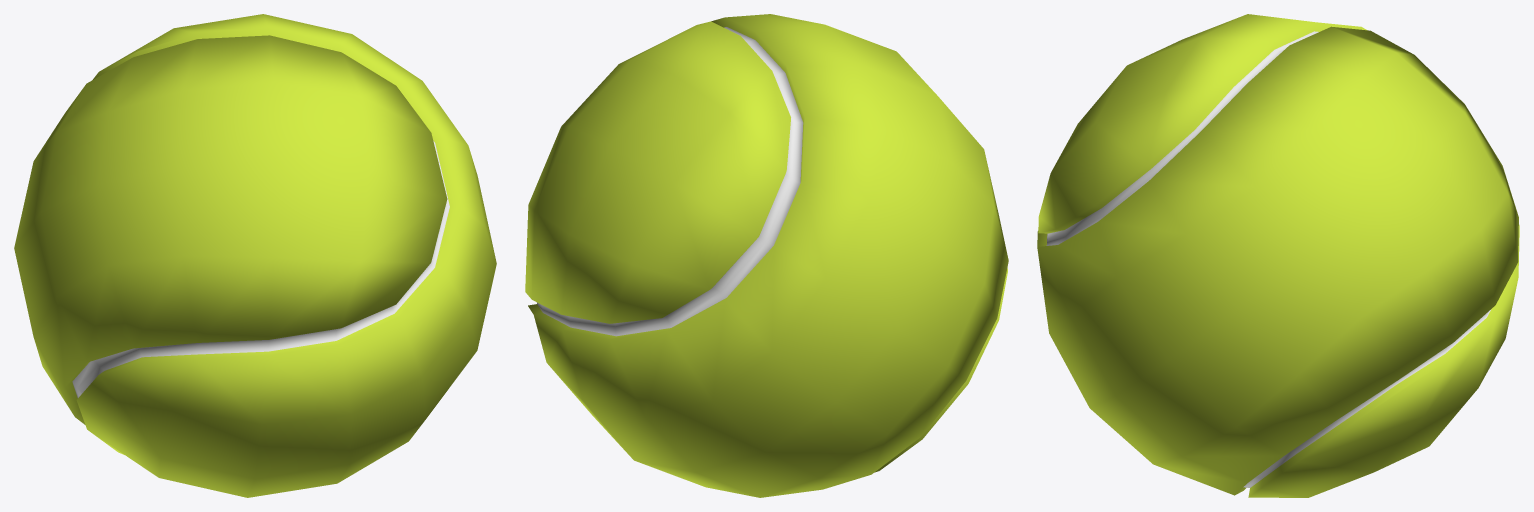
The model's file is tennis_ball.glb.
3 renders of one model, left to right at view 1: azimuth 30°, elevation 25°; view 2: azimuth 150°, elevation 25°; view 3: azimuth 270°, elevation 25°, orthographic.
Visible parts, largest first — view 1: Cube.019; view 2: Cube.019; view 3: Cube.019.
Part boxes in pixels (box(x1,y1,x2,y2)): Cube.019: box(14, 14, 496, 497); Cube.019: box(525, 14, 1008, 497); Cube.019: box(1037, 14, 1519, 497).
Bounding box in the file's own units: 4.51 × 4.53 × 4.49.
